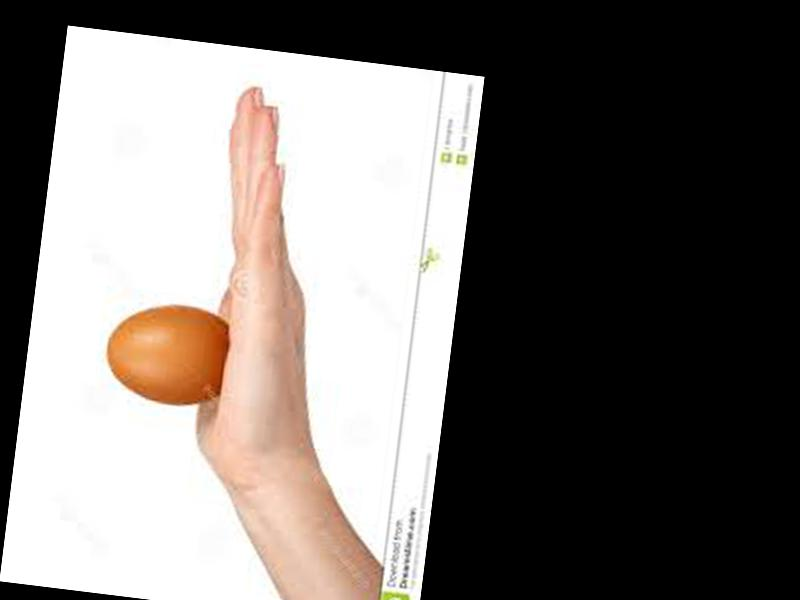Eggs: (102, 296, 235, 408)
